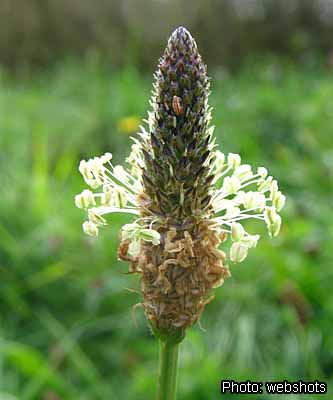buckhorn plantain: (111, 24, 285, 400)
